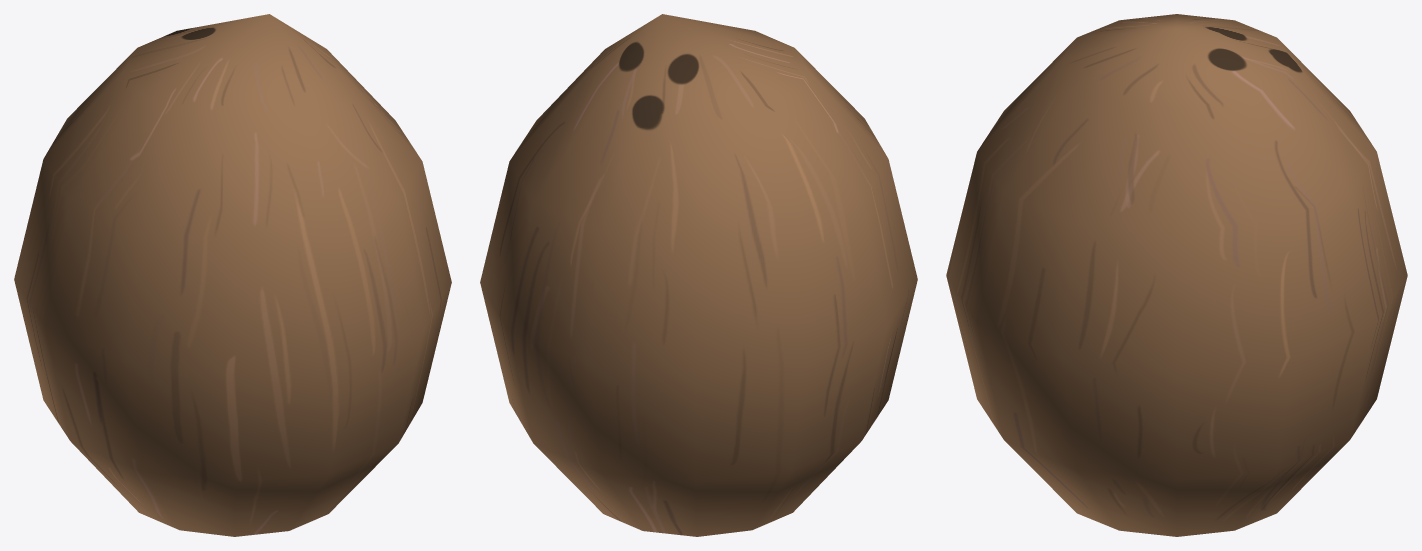
File: Coconut (1).FBX
3 views of the same model, side by side, from view 1: azimuth 30°, elevation 25°; view 2: azimuth 150°, elevation 25°; view 3: azimuth 270°, elevation 25° (orthographic). The views are drawn at different scales.
Visible parts, largest first — view 1: Sphere001; view 2: Sphere001; view 3: Sphere001.
Part boxes in pixels (bbox=[...]): Sphere001: bbox=[14, 14, 451, 536]; Sphere001: bbox=[480, 14, 917, 536]; Sphere001: bbox=[946, 14, 1407, 536].
Bounding box in the file's own units: 0.6518 × 0.8149 × 0.6758.
